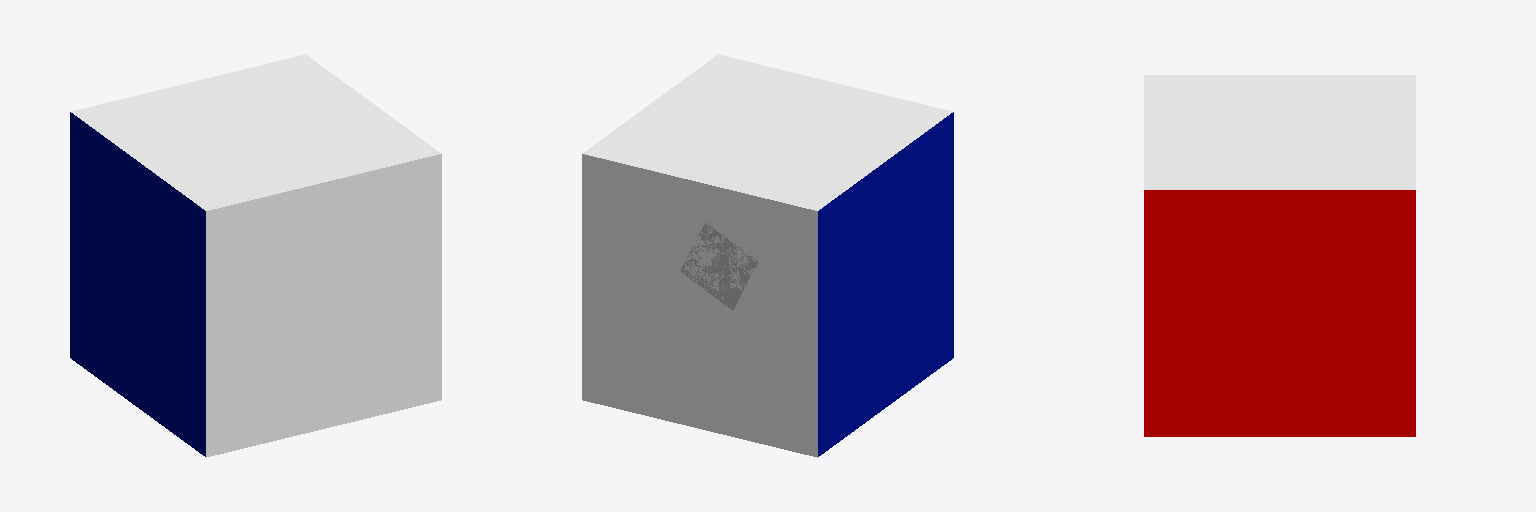
The model's file is scene_subdivide_5.obj.
The picture shows the model from 3 angles: view 1: azimuth 30°, elevation 25°; view 2: azimuth 150°, elevation 25°; view 3: azimuth 270°, elevation 25°; orthographic projection.
Parts seen in each view (by area): view 1: Cube; view 2: Cube; view 3: Cube.
Part boxes in pixels (left/top/right/bottom): Cube: left=70, top=54, right=441, bottom=457; Cube: left=582, top=54, right=953, bottom=457; Cube: left=1144, top=75, right=1415, bottom=436.
Bounding box in the file's own units: 4 × 4 × 4.